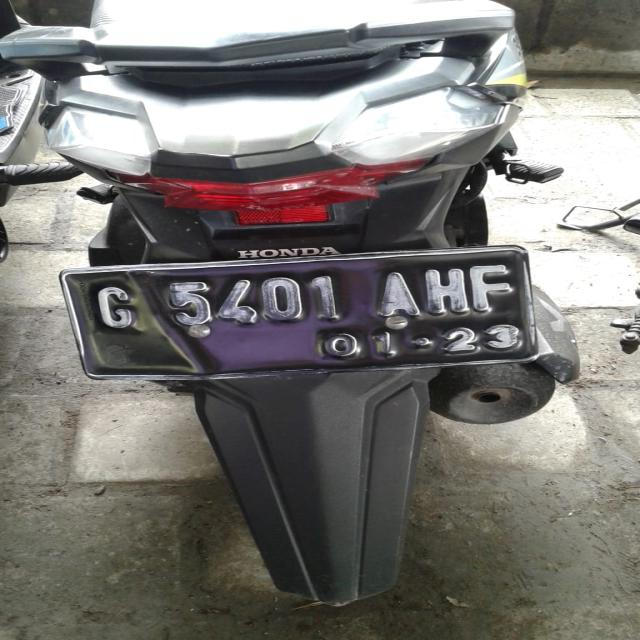plate: (55, 247, 543, 381)
